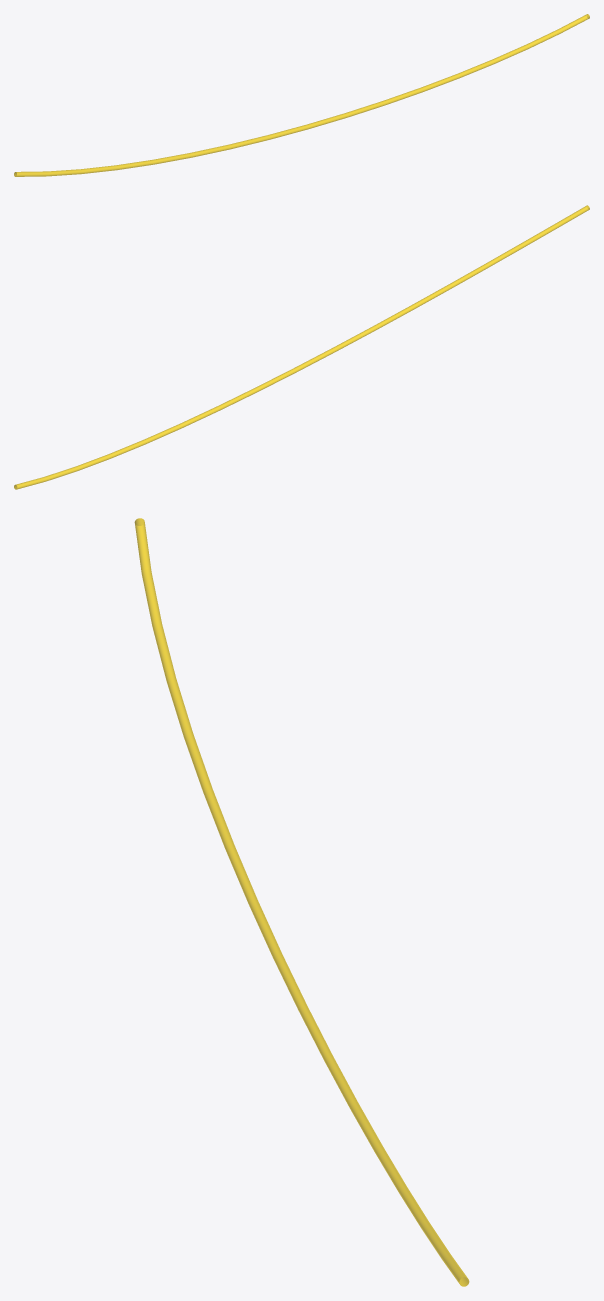
File: Event_75125125_track_109.fbx
3 renders of one model, top to bottom at view 1: azimuth 30°, elevation 25°; view 2: azimuth 210°, elevation 25°; view 3: azimuth 270°, elevation 25°, orthographic. The views are drawn at different scales.
Visible parts, largest first — view 1: Model; view 2: Model; view 3: Model.
Boxes of the visible parts, bbox=[...] form: Model: bbox=[14, 14, 589, 176]; Model: bbox=[14, 205, 589, 489]; Model: bbox=[134, 518, 469, 1286].
Bounding box in the file's own units: 5.95 × 0.6297 × 1.32.
